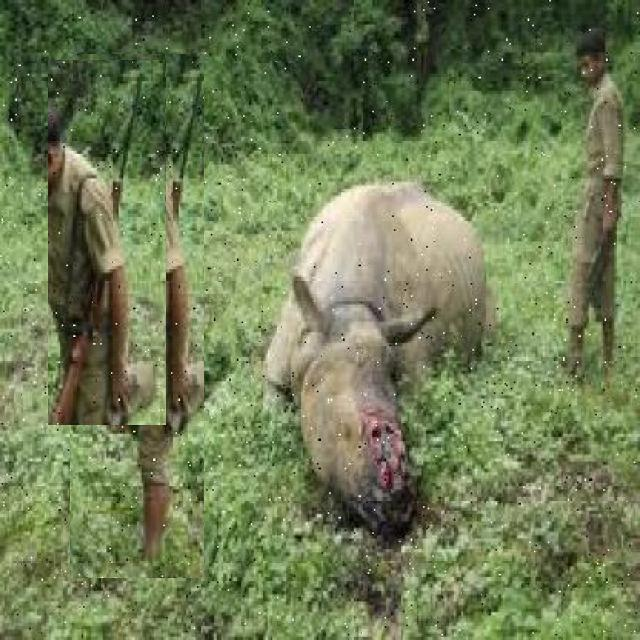p_collect: (254, 169, 497, 517)
p_export: (19, 16, 626, 596)
poacher: (70, 54, 204, 578), (535, 20, 640, 382)
weapon: (48, 60, 166, 425)
